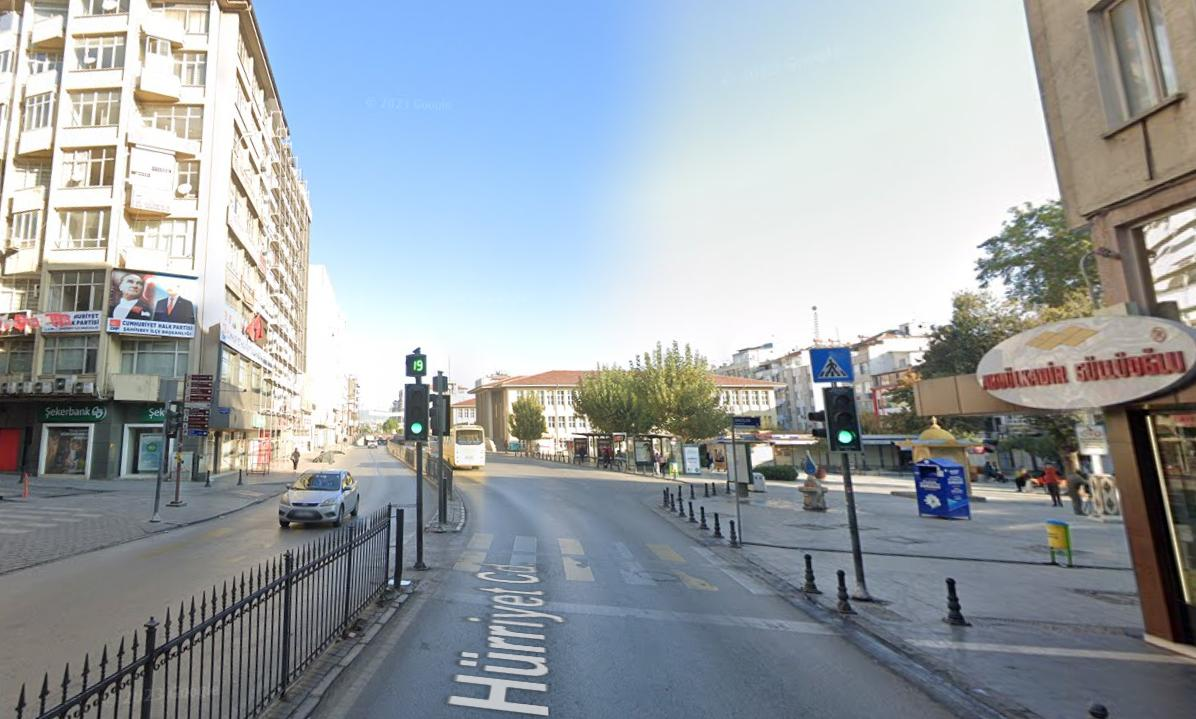greenlight: (833, 389, 856, 446), (406, 382, 427, 437)
